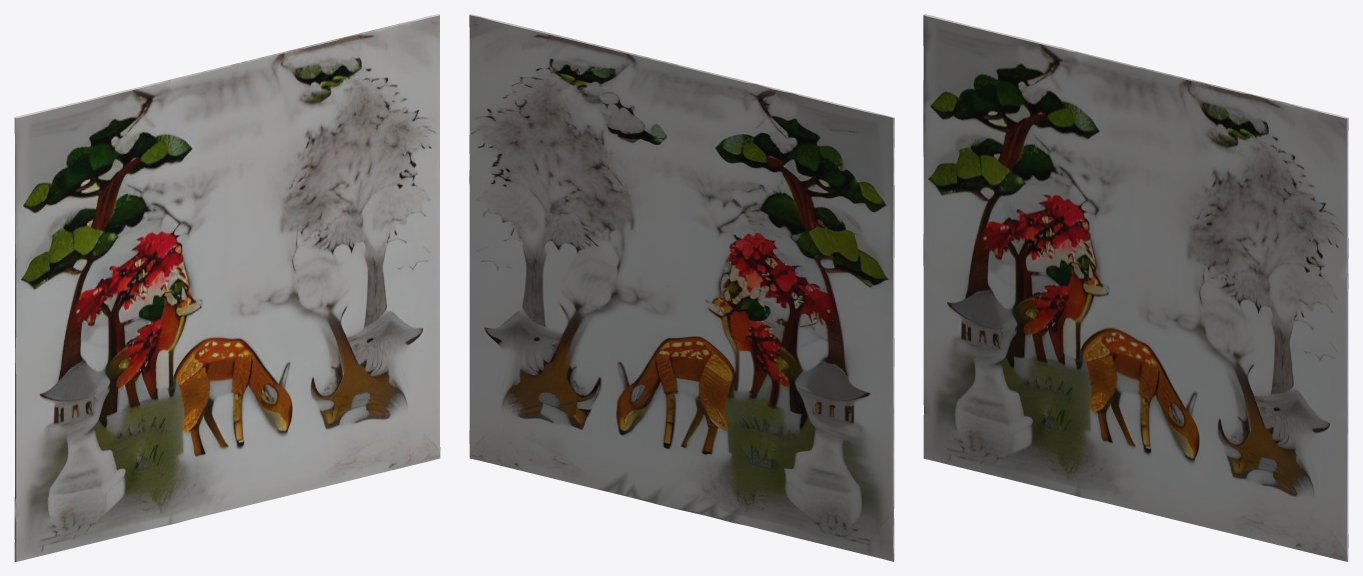
Rendered from nara-park.glb.
The picture shows the model from 3 angles, left to right: view 1: azimuth 30°, elevation 25°; view 2: azimuth 150°, elevation 25°; view 3: azimuth 330°, elevation 25°; orthographic projection.
Parts seen in each view (by area): view 1: logan-textured.obj; view 2: logan-textured.obj; view 3: logan-textured.obj.
Boxes of the visible parts, box(x1,y1,x2,y2) form: logan-textured.obj: box(14, 14, 440, 561); logan-textured.obj: box(469, 14, 894, 561); logan-textured.obj: box(923, 14, 1348, 561).
Size of the model in its own units: 1 by 0.9998 by 0.0062.
1 material, 1 textured.
